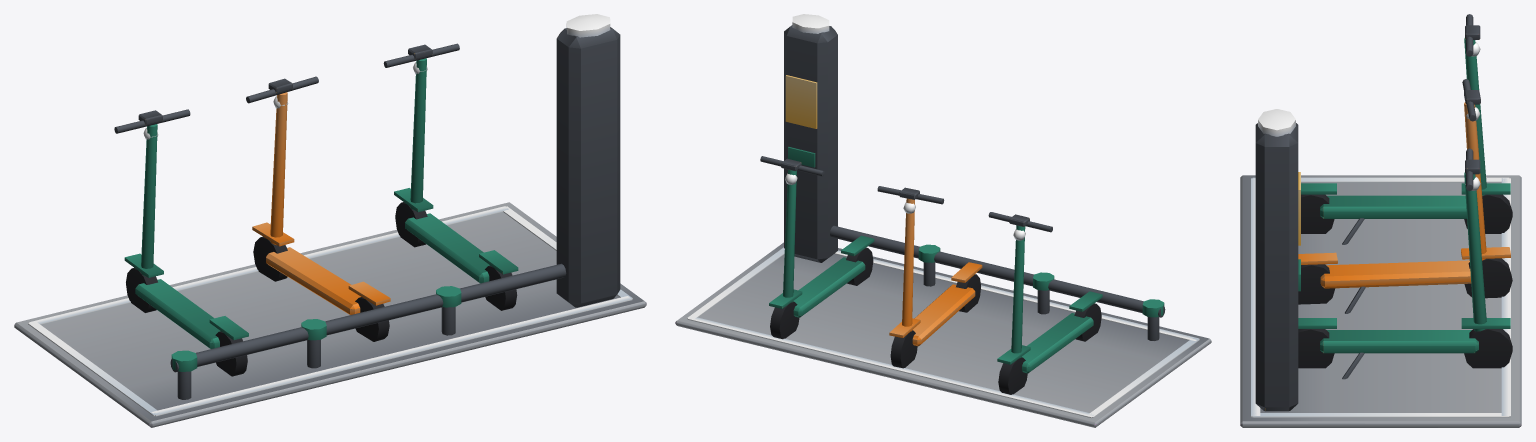
Rendered from ck_scooter_dock.fbx.
The picture shows the model from 3 angles, left to right: view 1: azimuth 30°, elevation 25°; view 2: azimuth 150°, elevation 25°; view 3: azimuth 270°, elevation 25°; orthographic projection. The views are drawn at different scales.
Visible parts, largest first — view 1: ck_scooter_dock; view 2: ck_scooter_dock; view 3: ck_scooter_dock.
Part boxes in pixels (x1,y1,x2,y2): ck_scooter_dock: [14, 14, 646, 427]; ck_scooter_dock: [675, 14, 1211, 427]; ck_scooter_dock: [1240, 14, 1521, 427].
Size of the model in its own units: 960 by 527 by 460.
